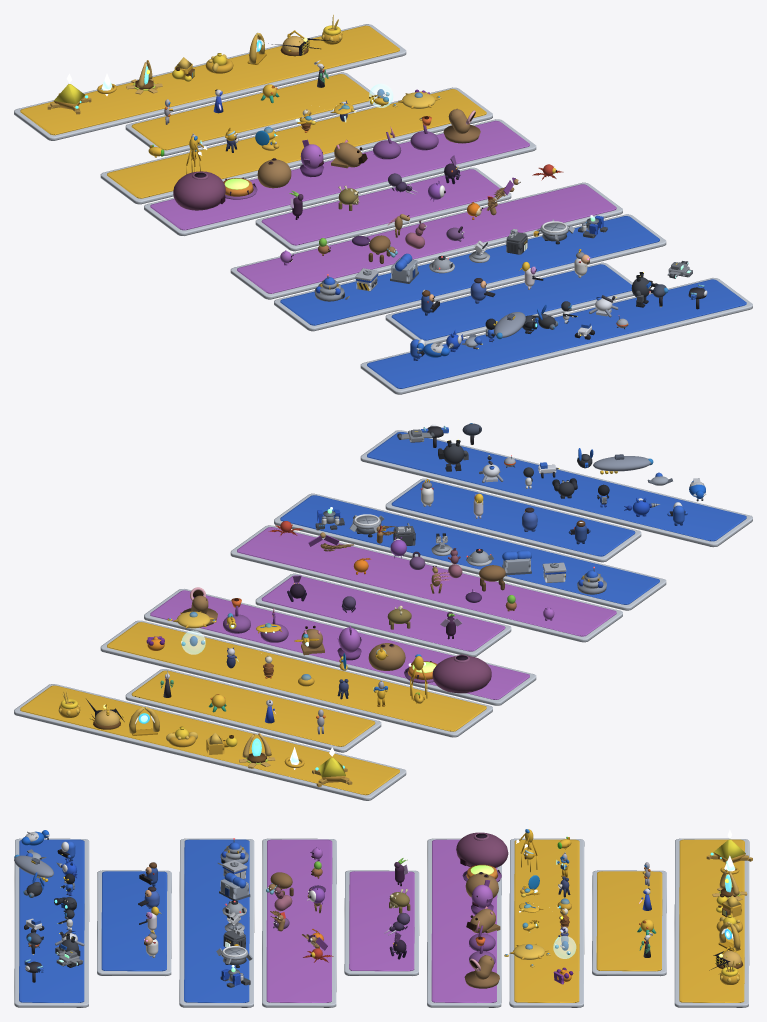
Rendered from starcrafts.glb.
3 views of the same model, one above another, from view 1: azimuth 30°, elevation 25°; view 2: azimuth 150°, elevation 25°; view 3: azimuth 270°, elevation 25° (orthographic). The views are drawn at different scales.
Parts seen in each view (by area): view 1: plateedge_uzerg, plateedge_uterran, plateedge_bprotoss, plateedge_uprotoss, plateedge_bterran, plateedge_bzerg, plateedge_hprotoss, plateedge_hterran, plateedge_hzerg, plate_uterran, plate_bprotoss, plate_bterran (+8 smaller); view 2: plateedge_uprotoss, plateedge_uzerg, plateedge_uterran, plateedge_bprotoss, plateedge_bterran, plateedge_hprotoss, plateedge_hterran, plateedge_hzerg, plateedge_bzerg, plate_uprotoss, plate_bprotoss, plate_uterran (+9 smaller); view 3: plateedge_uzerg, plateedge_uprotoss, plateedge_bprotoss, plateedge_bterran, plateedge_uterran, plateedge_bzerg, plateedge_hprotoss, plateedge_hzerg, plateedge_hterran, plate_uprotoss, plate_bterran, plate_bprotoss (+18 smaller).
Boxes of the visible parts, bbox=[...] form: plateedge_uzerg: bbox=[237, 184, 616, 293]; plateedge_uterran: bbox=[367, 279, 746, 388]; plateedge_bprotoss: bbox=[20, 25, 399, 135]; plateedge_uprotoss: bbox=[107, 89, 486, 198]; plateedge_bterran: bbox=[280, 216, 659, 325]; plateedge_bzerg: bbox=[150, 120, 529, 230]; plateedge_hprotoss: bbox=[131, 74, 374, 150]; plateedge_hterran: bbox=[391, 264, 631, 340]; plateedge_hzerg: bbox=[261, 169, 505, 245]; plate_uterran: bbox=[360, 278, 752, 394]; plate_bprotoss: bbox=[14, 24, 406, 140]; plate_bterran: bbox=[274, 214, 666, 331]; plateedge_uprotoss: bbox=[107, 622, 486, 731]; plateedge_uzerg: bbox=[237, 527, 616, 636]; plateedge_uterran: bbox=[367, 432, 746, 541]; plateedge_bprotoss: bbox=[20, 685, 399, 795]; plateedge_bterran: bbox=[280, 495, 659, 604]; plateedge_hprotoss: bbox=[131, 670, 375, 746]; plateedge_hterran: bbox=[391, 480, 635, 556]; plateedge_hzerg: bbox=[261, 575, 505, 651]; plateedge_bzerg: bbox=[150, 590, 529, 699]; plate_uprotoss: bbox=[100, 620, 492, 737]; plate_bprotoss: bbox=[14, 684, 406, 800]; plate_uterran: bbox=[360, 430, 752, 547]; plateedge_uzerg: bbox=[266, 839, 332, 1002]; plateedge_uprotoss: bbox=[514, 839, 579, 1002]; plateedge_bprotoss: bbox=[679, 839, 744, 1002]; plateedge_bterran: bbox=[184, 839, 249, 1002]; plateedge_uterran: bbox=[19, 839, 84, 1002]; plateedge_bzerg: bbox=[431, 839, 497, 1002]; plateedge_hprotoss: bbox=[596, 871, 662, 971]; plateedge_hzerg: bbox=[349, 871, 414, 971]; plateedge_hterran: bbox=[101, 871, 167, 971]; plate_uprotoss: bbox=[509, 838, 584, 1007]; plate_bterran: bbox=[179, 838, 254, 1007]; plate_bprotoss: bbox=[674, 838, 749, 1007].
Bounding box in the file's own units: 21 × 2.94 × 39.41.
